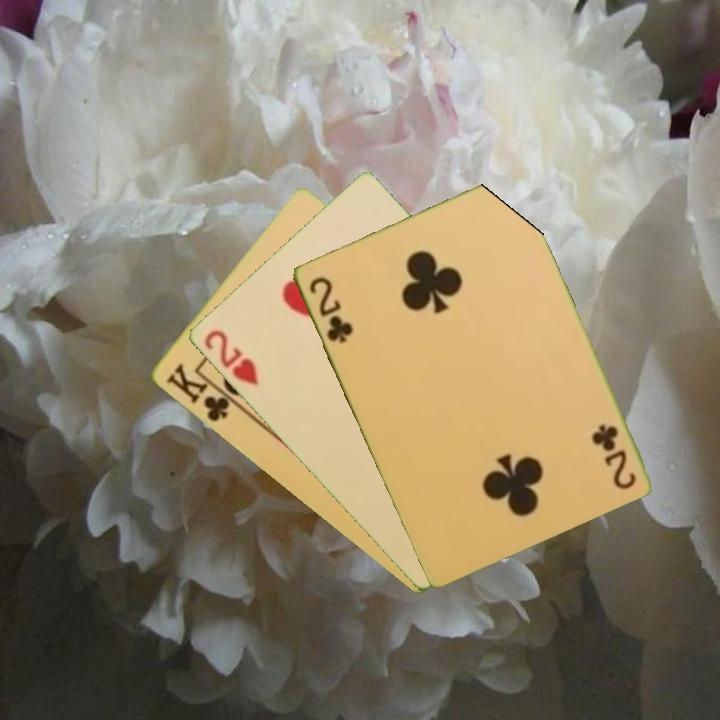2c: (305, 273, 356, 347), (590, 421, 639, 492)
2h: (200, 326, 261, 389)
Kc: (162, 360, 241, 425)
